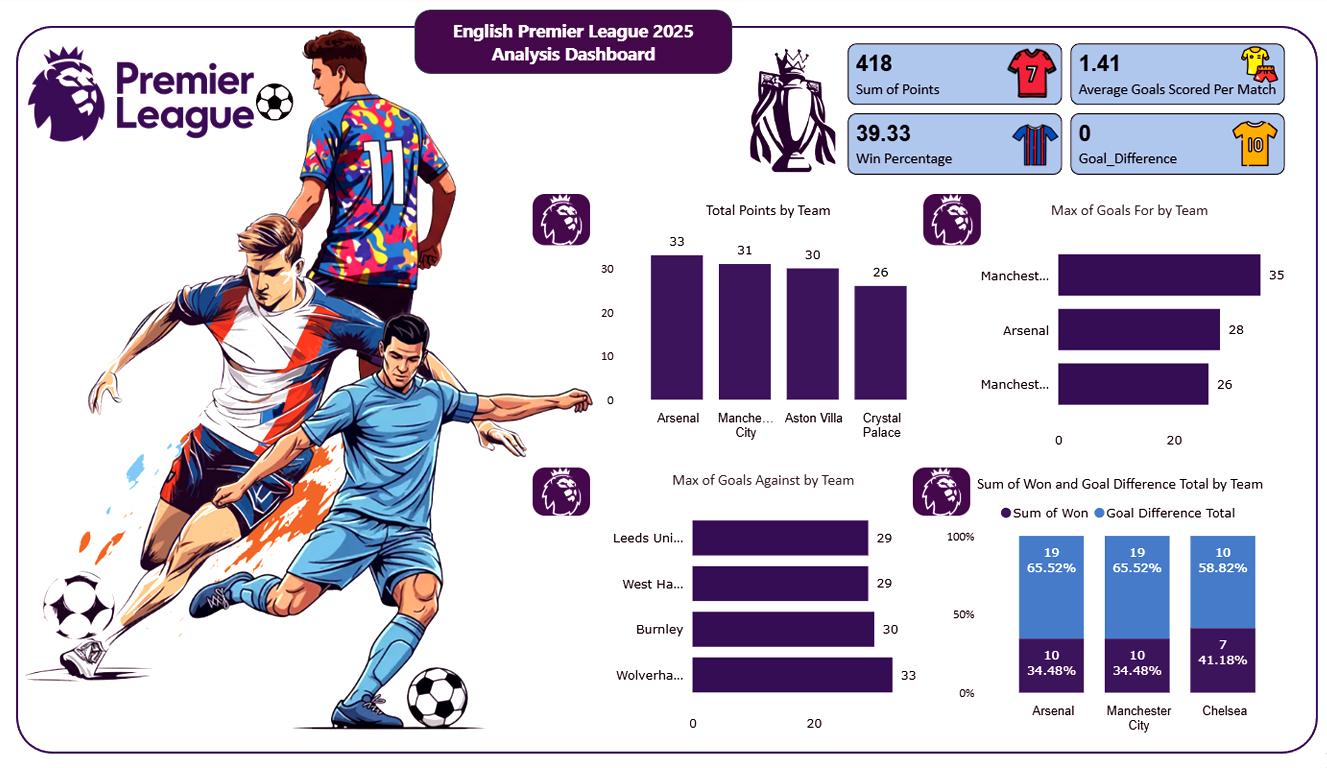

The dashboard page shown, as its layout file describes it:
{"tool":"powerbi","page":{"name":"Page 1","canvas":[1300,750],"ordinal":0},"visuals":[{"type":"shape","box":[17.8,26.2,1268.1,708.9],"z":0},{"type":"image","box":[150.2,29.3,313.6,480.8],"z":1000},{"type":"image","box":[17.4,208.8,503.5,457.2],"z":2000},{"type":"image","box":[170.5,301.3,436.4,421.3],"z":3000},{"type":"image","box":[23.4,45.8,231.9,92.6],"z":4000},{"type":"image","box":[520.5,189.9,55.7,50.1],"z":5000},{"type":"image","box":[732.2,44,87.9,129.1],"z":6000},{"type":"cardVisual","fields":{"Data":["Sum(premier_league_table_15.Points)","premier_league_table_15.Average Goals Scored Per Match","premier_league_table_15.Win Percentage","premier_league_table_15.Goal_Difference"]},"box":[810.8,26.2,460.1,163.7],"z":7000},{"type":"columnChart","title":"Total Points by Team","fields":{"Category":["premier_league_table_15.Team"],"Y":["Sum(premier_league_table_15.Points)"]},"box":[581.9,196.5,337.2,240.9],"z":8000},{"type":"barChart","fields":{"Category":["premier_league_table_15.Team"],"Y":["Max(premier_league_table_15.Goals For)"]},"box":[938,196.5,328.7,250.3],"z":9000},{"type":"barChart","fields":{"Category":["premier_league_table_15.Team"],"Y":["Max(premier_league_table_15.Goals Against)"]},"box":[581.9,459.1,327.8,263.5],"z":10000},{"type":"hundredPercentStackedColumnChart","fields":{"Category":["premier_league_table_15.Team"],"Y":["Sum(premier_league_table_15.Won)","premier_league_table_15.Goal Difference Total"]},"box":[919.1,462.8,347.6,259.8],"z":11000},{"type":"image","box":[520.5,456.2,55.7,47.2],"z":12000},{"type":"image","box":[901.1,189.9,55.7,50.1],"z":13000},{"type":"image","box":[890.7,456.2,55.7,47.2],"z":14000},{"type":"shape","box":[405.9,10.3,309.5,62.7],"z":15000},{"type":"image","box":[251.6,82.3,35.5,35.5],"z":16000},{"type":"image","box":[981,44.9,53.3,55.2],"z":17000},{"type":"image","box":[987.5,118.8,46.8,46.8],"z":18000},{"type":"image","box":[1202.6,118.8,44,44],"z":19000},{"type":"image","box":[1211,45.8,35.5,36.5],"z":20000}]}

Visuals, with their boxes in screenshot pixels (x1, y1, x2, y2), scaled from the page's 1300x750 canvas onto the 1327x768 screenshot:
shape: left=18, top=27, right=1313, bottom=753
image: left=153, top=30, right=473, bottom=522
image: left=18, top=214, right=532, bottom=682
image: left=174, top=309, right=620, bottom=740
image: left=24, top=47, right=261, bottom=142
image: left=531, top=194, right=588, bottom=246
image: left=747, top=45, right=837, bottom=177
cardVisual - Sum(premier_league_table_15.Points) x premier_league_table_15.Average Goals Scored Per Match: left=828, top=27, right=1297, bottom=194
"Total Points by Team" columnChart: left=594, top=201, right=938, bottom=448
barChart - premier_league_table_15.Team x Max(premier_league_table_15.Goals For): left=957, top=201, right=1293, bottom=458
barChart - premier_league_table_15.Team x Max(premier_league_table_15.Goals Against): left=594, top=470, right=929, bottom=740
hundredPercentStackedColumnChart - premier_league_table_15.Team x Sum(premier_league_table_15.Won): left=938, top=474, right=1293, bottom=740
image: left=531, top=467, right=588, bottom=515
image: left=920, top=194, right=977, bottom=246
image: left=909, top=467, right=966, bottom=515
shape: left=414, top=11, right=730, bottom=75
image: left=257, top=84, right=293, bottom=121
image: left=1001, top=46, right=1056, bottom=103
image: left=1008, top=122, right=1056, bottom=170
image: left=1228, top=122, right=1272, bottom=167
image: left=1236, top=47, right=1272, bottom=84
